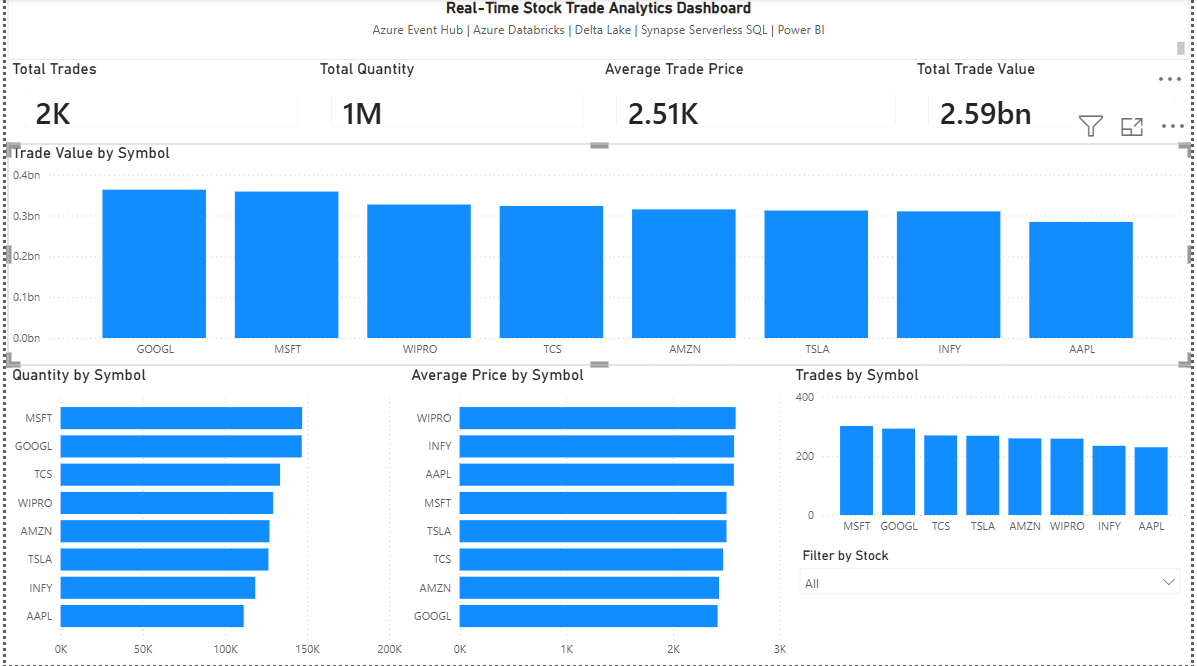

This screenshot's page, from the dashboard's own definition file:
{"tool":"powerbi","page":{"name":"Page 1","canvas":[1280,720],"ordinal":0},"visuals":[{"type":"cardVisual","title":"Total Trades","fields":{"Data":["Sum(vw_dashboard_summary.total_trades)"]},"box":[1.6,66.4,331.9,90.7],"z":0},{"type":"cardVisual","title":"Total Quantity","fields":{"Data":["Sum(vw_dashboard_summary.total_quantity)"]},"box":[333.6,66.4,307.7,90.7],"z":1000},{"type":"cardVisual","title":"Average Trade Price","fields":{"Data":["Sum(vw_dashboard_summary.average_trade_price)"]},"box":[641.2,66.4,336.8,90.7],"z":2000},{"type":"cardVisual","title":"Total Trade Value","fields":{"Data":["Sum(vw_dashboard_summary.total_trade_value)"]},"box":[978,66.4,301.2,90.7],"z":3000},{"type":"clusteredColumnChart","title":"Trade Value by Symbol","fields":{"Category":["vw_trade_summary.symbol"],"Y":["Sum(vw_trade_summary.total_trade_value)"]},"box":[1.6,157.1,1279.2,239.6],"z":4000},{"type":"clusteredBarChart","title":"Quantity by Symbol","fields":{"Category":["vw_trade_summary.symbol"],"Y":["Sum(vw_trade_summary.total_quantity)"]},"box":[1.6,396.7,430.7,323.8],"z":5000},{"type":"clusteredBarChart","title":"Average Price by Symbol","fields":{"Category":["vw_trade_summary.symbol"],"Y":["Sum(vw_trade_summary.average_price)"]},"box":[432.3,396.7,414.5,323.8],"z":6000},{"type":"slicer","fields":{"Values":["vw_trade_summary.symbol"]},"box":[846.9,587.8,430.7,132.8],"z":7000},{"type":"clusteredColumnChart","title":"Trades by Symbol","fields":{"Category":["vw_trade_summary.symbol"],"Y":["Sum(vw_trade_summary.total_trades)"]},"box":[846.9,396.7,430.7,191.1],"z":8000},{"type":"textbox","title":"Real-Time Stock Trade Analytics Dashboard","box":[1.6,0,1276,66.4],"z":8001}]}

Visuals, with their boxes in screenshot pixels (x1, y1, x2, y2), scaled from the page's 1280x720 canvas onto the 1197x666 screenshot:
"Total Trades" cardVisual: (x1=1, y1=61, x2=312, y2=145)
"Total Quantity" cardVisual: (x1=312, y1=61, x2=600, y2=145)
"Average Trade Price" cardVisual: (x1=600, y1=61, x2=915, y2=145)
"Total Trade Value" cardVisual: (x1=915, y1=61, x2=1196, y2=145)
"Trade Value by Symbol" clusteredColumnChart: (x1=1, y1=145, x2=1196, y2=367)
"Quantity by Symbol" clusteredBarChart: (x1=1, y1=367, x2=404, y2=665)
"Average Price by Symbol" clusteredBarChart: (x1=404, y1=367, x2=792, y2=665)
slicer - vw_trade_summary.symbol: (x1=792, y1=544, x2=1195, y2=665)
"Trades by Symbol" clusteredColumnChart: (x1=792, y1=367, x2=1195, y2=544)
"Real-Time Stock Trade Analytics Dashboard" textbox: (x1=1, y1=0, x2=1195, y2=61)
